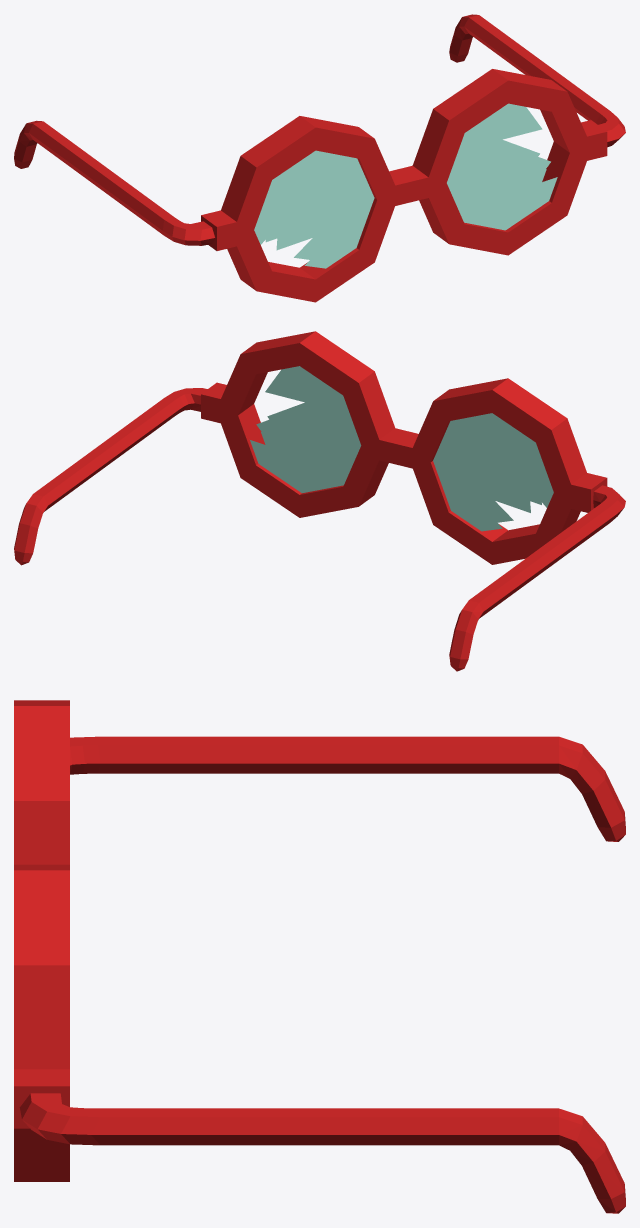
Rendered from Trash_Glasses.FBX.
3 views of the same model, one above another, from view 1: azimuth 30°, elevation 25°; view 2: azimuth 150°, elevation 25°; view 3: azimuth 270°, elevation 25° (orthographic). The views are drawn at different scales.
Visible parts, largest first — view 1: Cylinder001; view 2: Cylinder001; view 3: Cylinder001.
Boxes of the visible parts, x1=… form: Cylinder001: x1=14, y1=14, x2=625, y2=302; Cylinder001: x1=14, y1=331, x2=625, y2=671; Cylinder001: x1=14, y1=700, x2=625, y2=1213.
Bounding box in the file's own units: 76.34 × 28.1 × 50.92.
